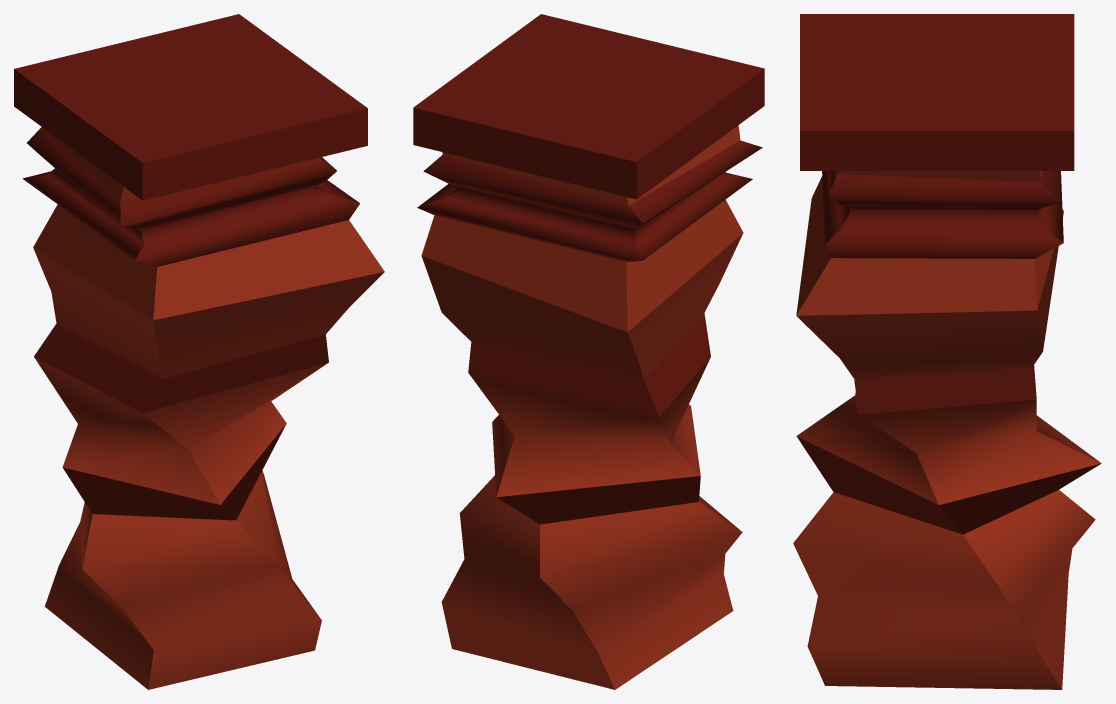
Rendered from coll1.FBX.
3 views of the same model, side by side, from view 1: azimuth 30°, elevation 25°; view 2: azimuth 150°, elevation 25°; view 3: azimuth 270°, elevation 25° (orthographic). The views are drawn at different scales.
Parts seen in each view (by area): view 1: Collum1; view 2: Collum1; view 3: Collum1.
Part boxes in pixels (x1,y1,x2,y2): Collum1: (14, 14, 384, 689); Collum1: (413, 14, 764, 689); Collum1: (793, 14, 1101, 689).
Size of the model in its own units: 23.67 by 47.15 by 22.89.
